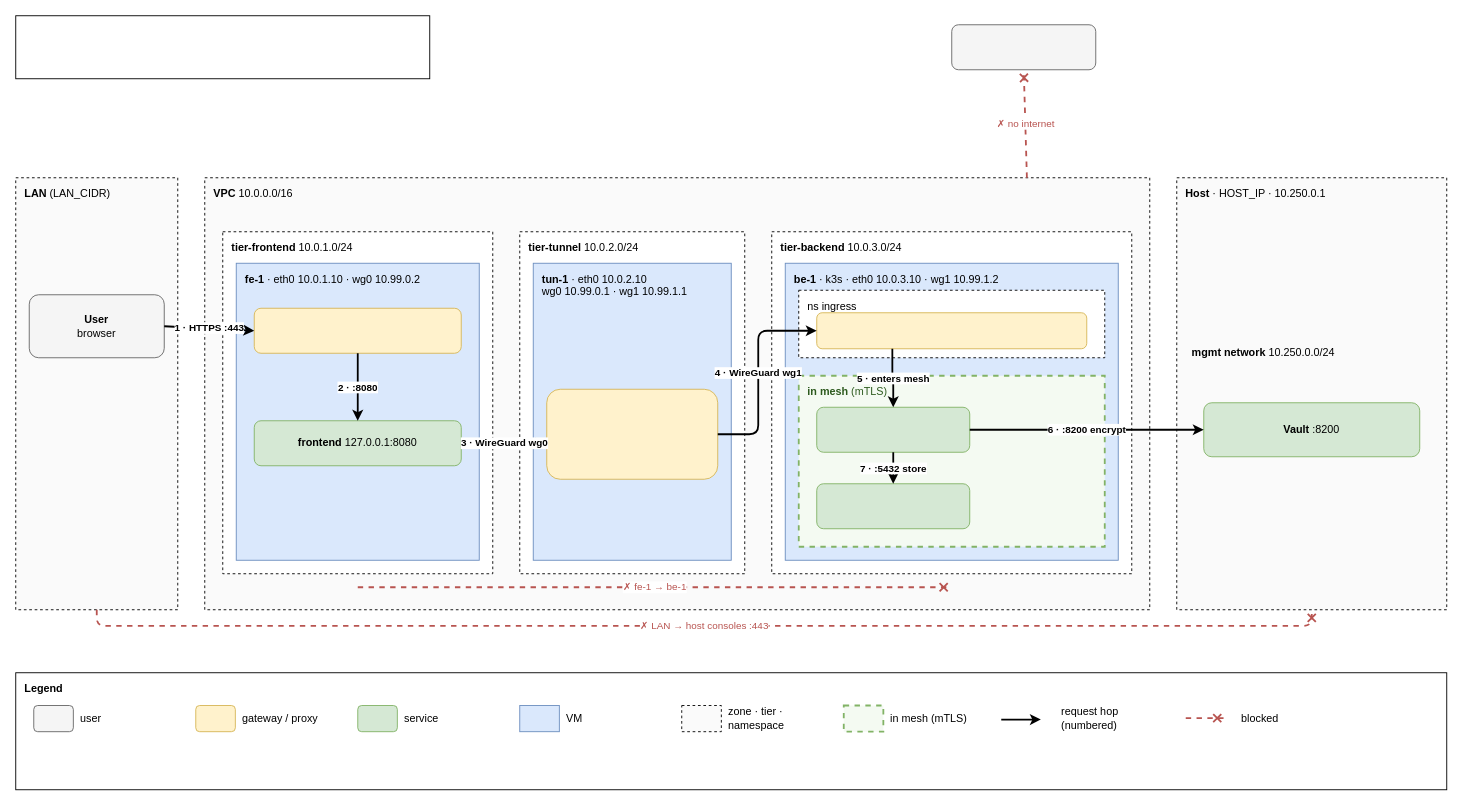
The diagram is 1463 pixels wide and 806 high, and some of its shapes have lost their labels. The shapes that lost their labels are listed below. From the top down, each one's centre as x and y in pixels, then its label:
At point 222,47: "Request Flow (LLD) SingleClusterIaCLab · v0.1 · 2026-11-10 · Joosung Min".
At point 1023,47: "Internet".
At point 357,330: "Caddy :443".
At point 951,330: "Istio Gateway :8000".
At point 632,433: "WireGuard hub forwards one flow".
At point 893,429: "api :8000 · ns app".
At point 893,506: "postgres :5432 · ns db".
